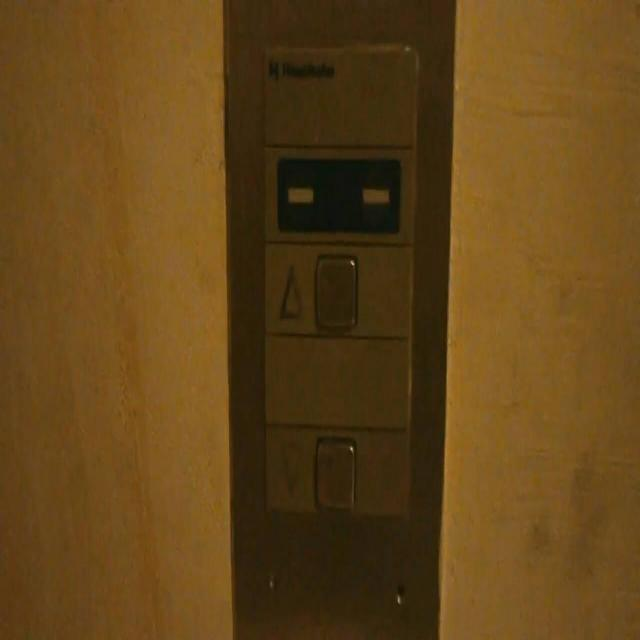down: (262, 418, 412, 524)
up: (261, 236, 416, 340)
